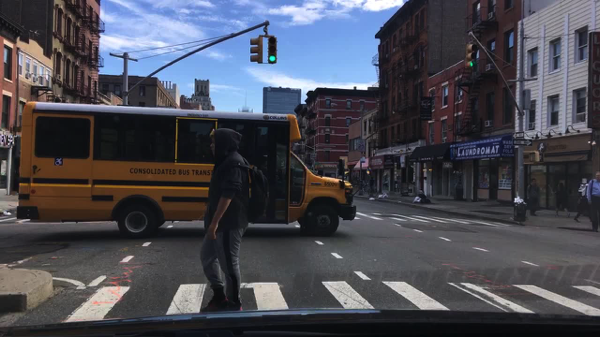bus: (15, 100, 357, 239)
person: (199, 127, 270, 313), (572, 178, 594, 223), (585, 171, 599, 232), (552, 181, 571, 218), (525, 177, 540, 216), (367, 176, 375, 196)
traffic light: (463, 43, 478, 70), (520, 150, 545, 165), (250, 36, 263, 62), (267, 37, 277, 65)
traffic sign: (419, 96, 433, 121), (512, 139, 533, 147), (356, 138, 366, 153), (511, 130, 526, 140), (310, 152, 318, 162), (359, 156, 365, 163), (312, 161, 319, 165)
